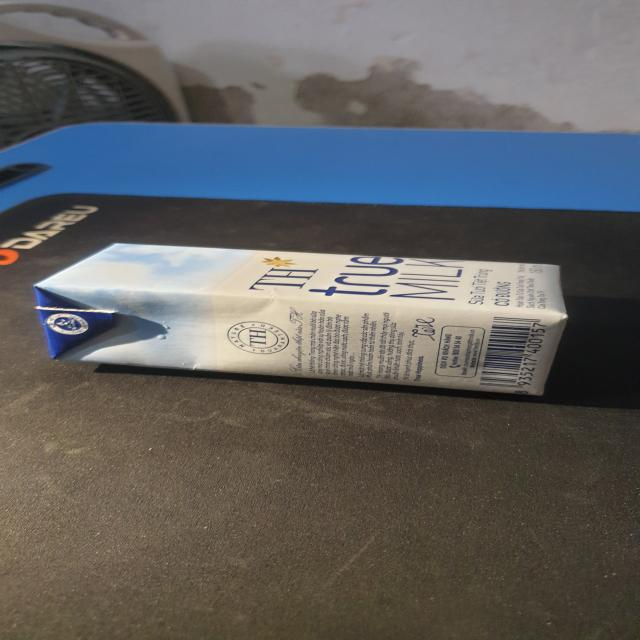TH: (35, 239, 574, 398)
